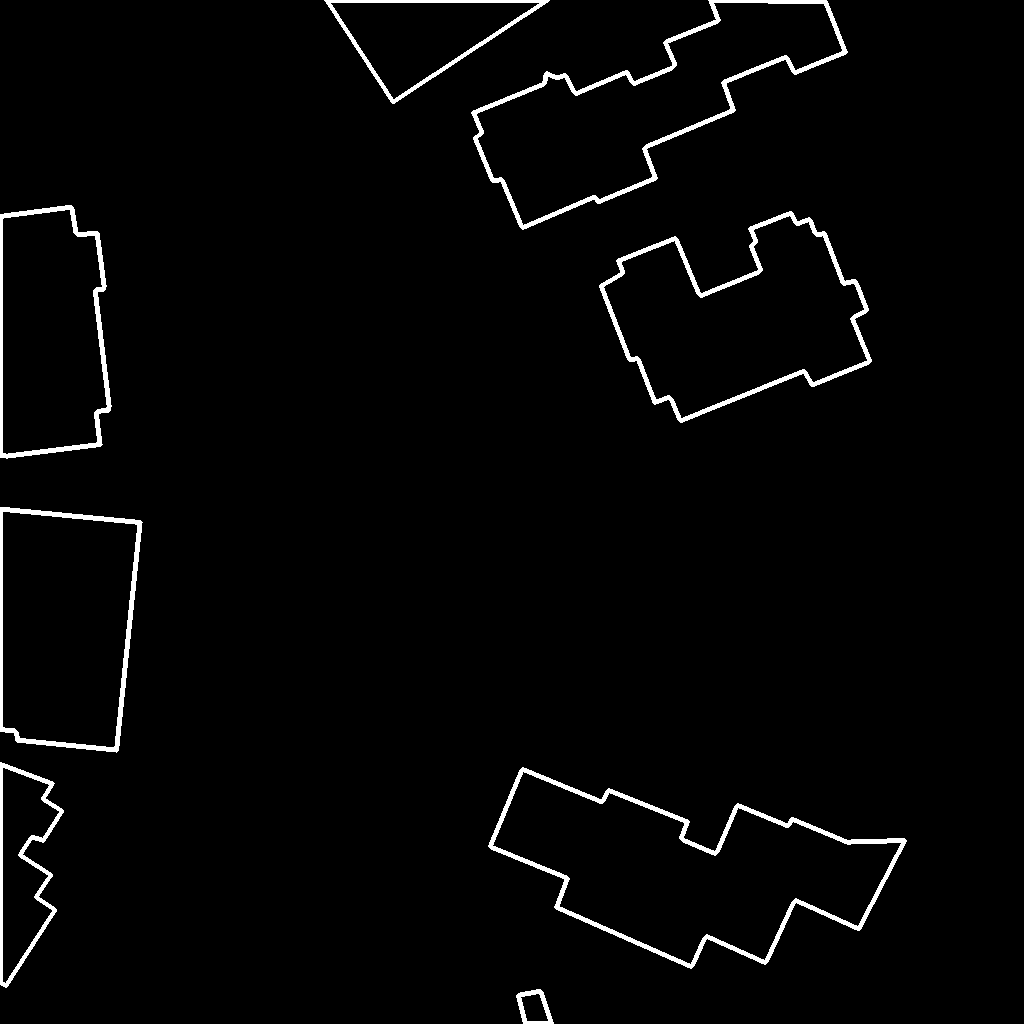building: (473, 0, 847, 229), (490, 769, 907, 968), (601, 213, 871, 422), (0, 509, 141, 751), (0, 207, 110, 457), (326, 0, 549, 103), (0, 764, 63, 987), (505, 991, 553, 1024)
